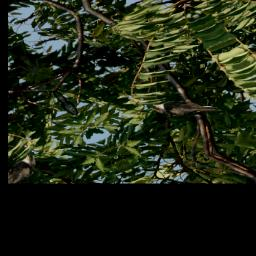Cuckoo: (148, 84, 226, 133)
